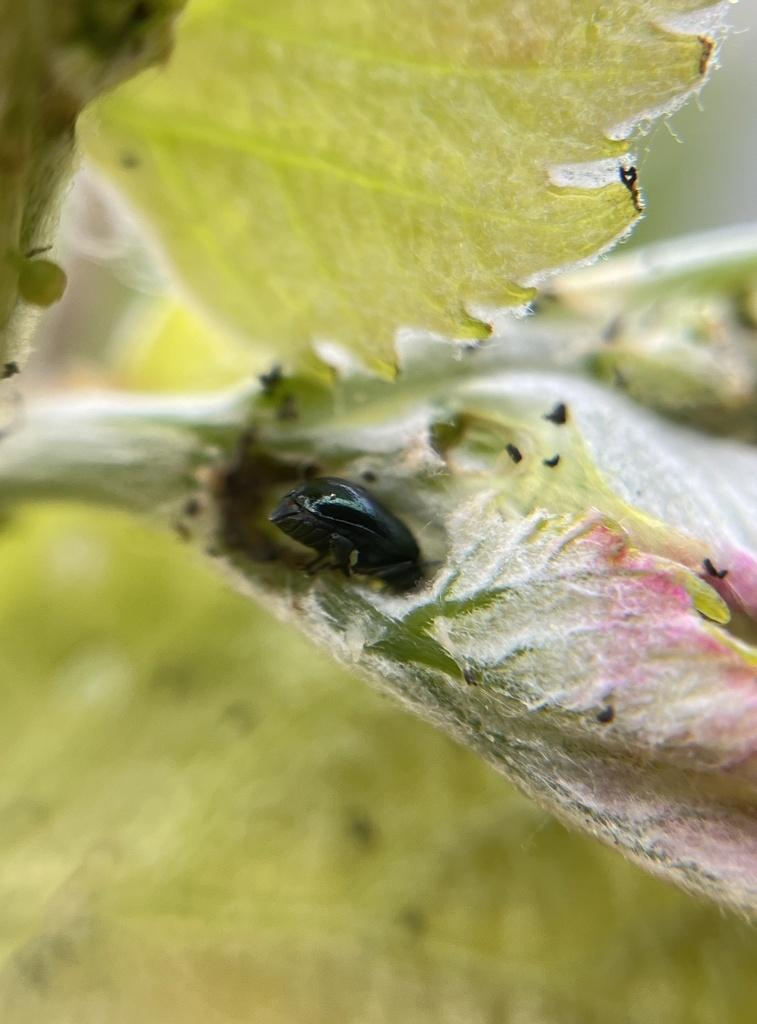flea_beetle: (238, 436, 487, 648)
